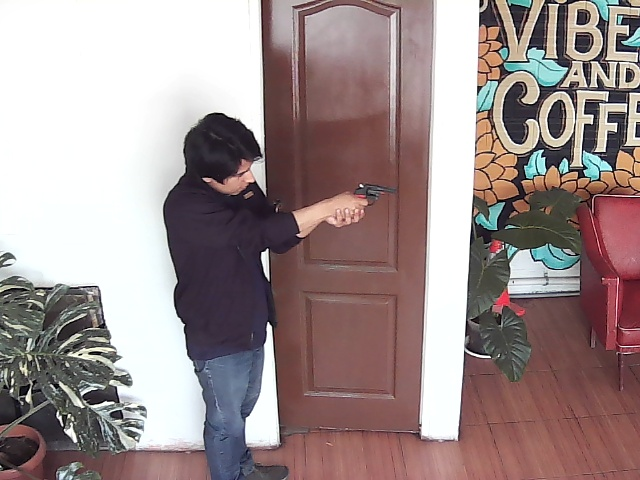pistola: (339, 179, 405, 213)
